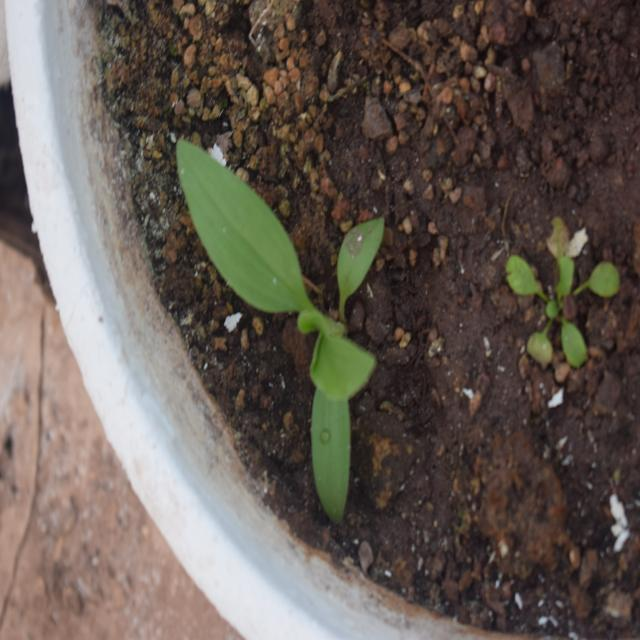Common Dayflower: (180, 130, 380, 504)
